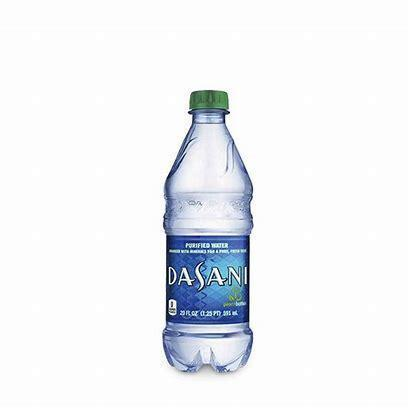bottle: (159, 82, 256, 376)
